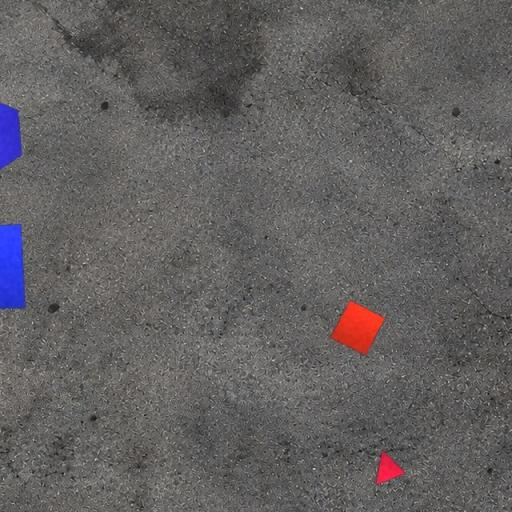RED_SQUARE: (330, 299, 386, 356)
